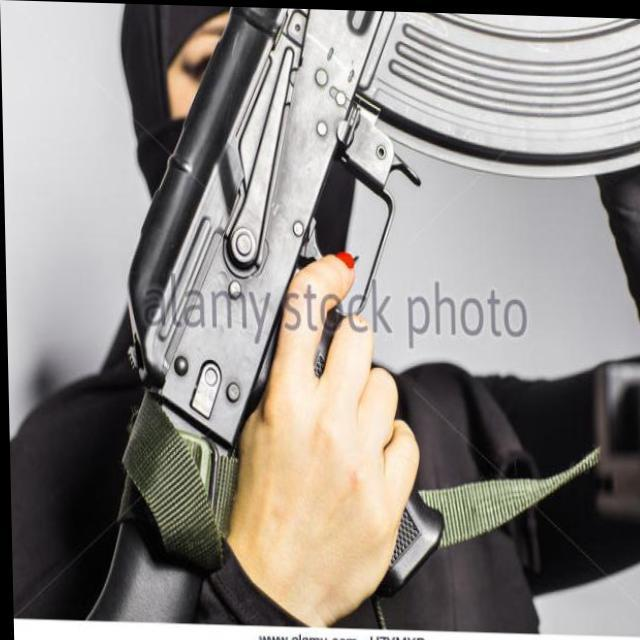weapon: (97, 2, 640, 610)
